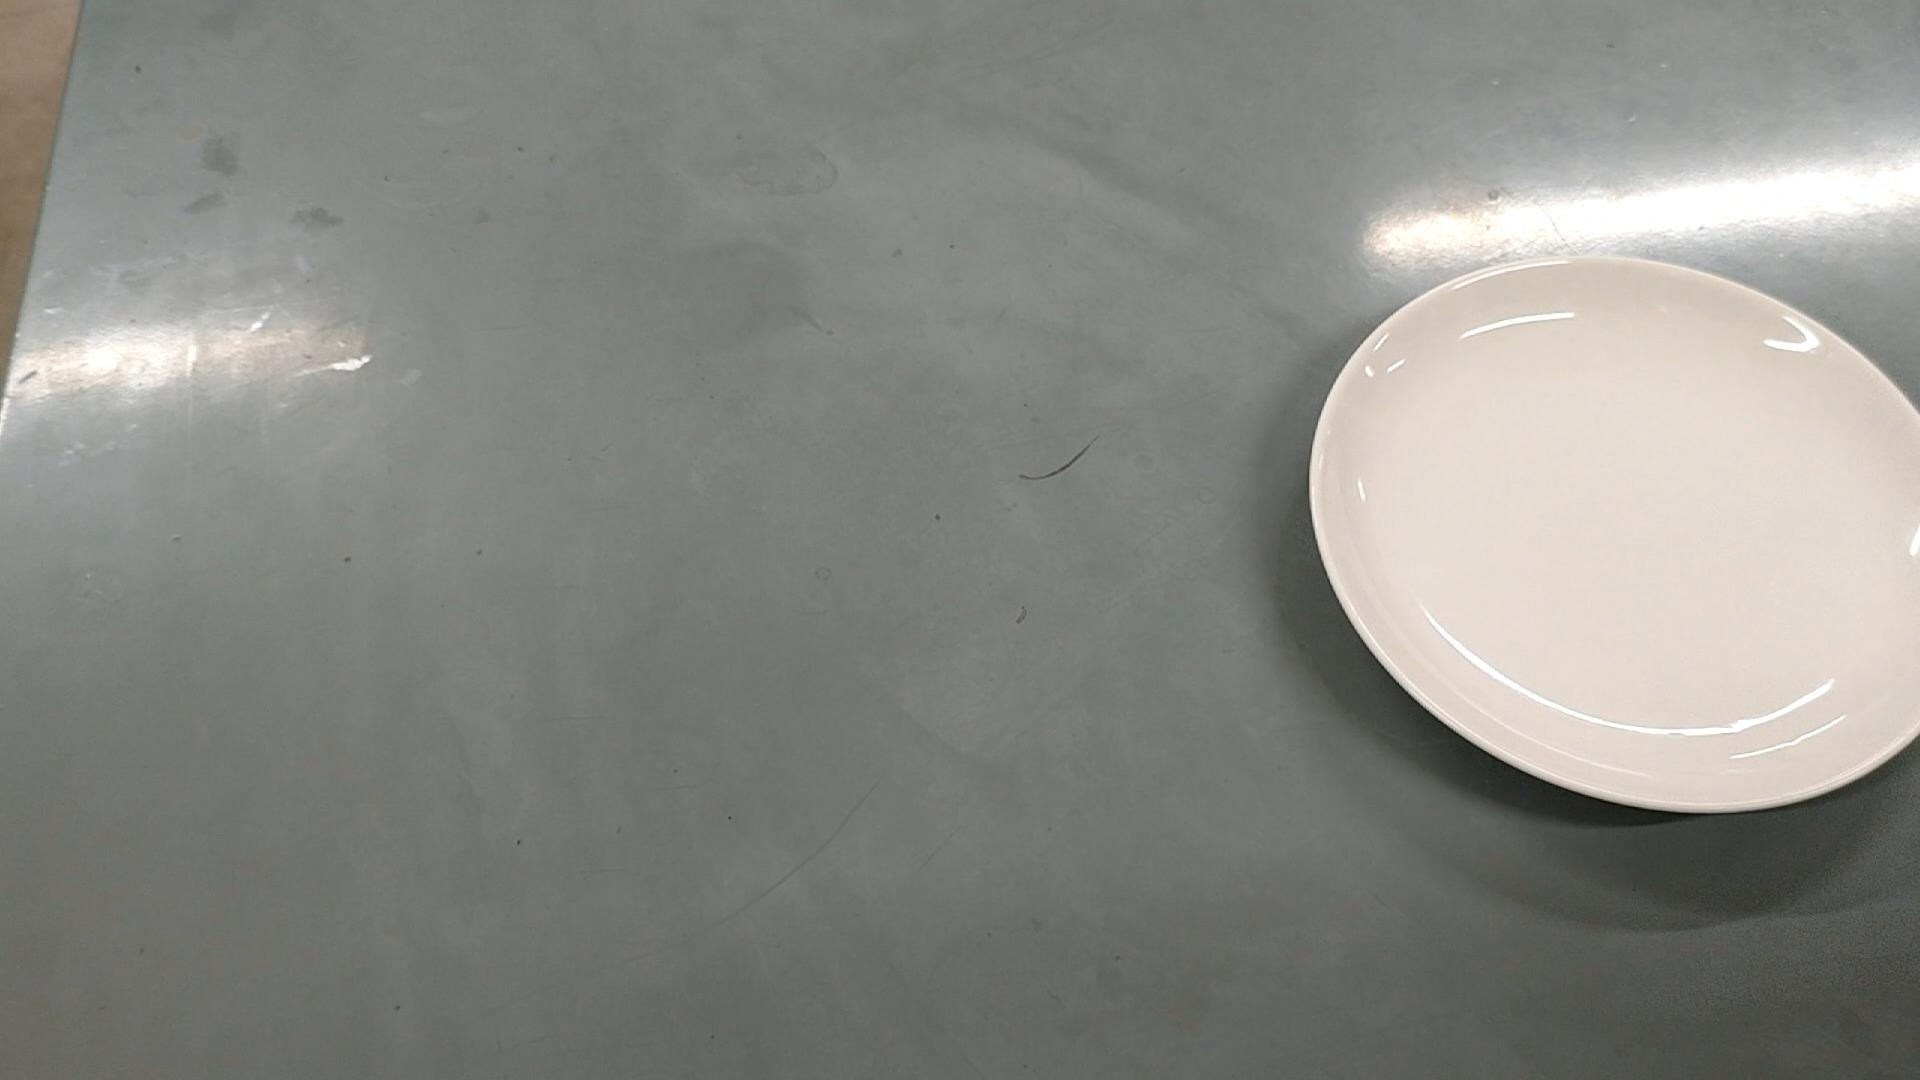plate: (1305, 248, 1920, 816)
